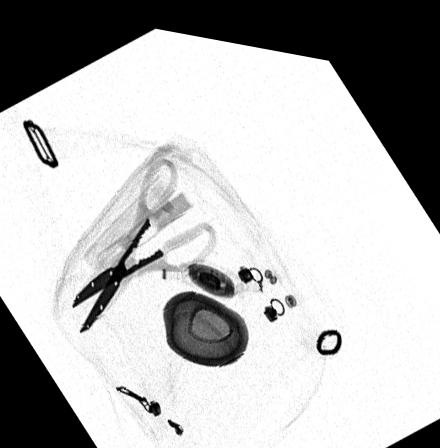Scissors: (69, 151, 219, 335)
